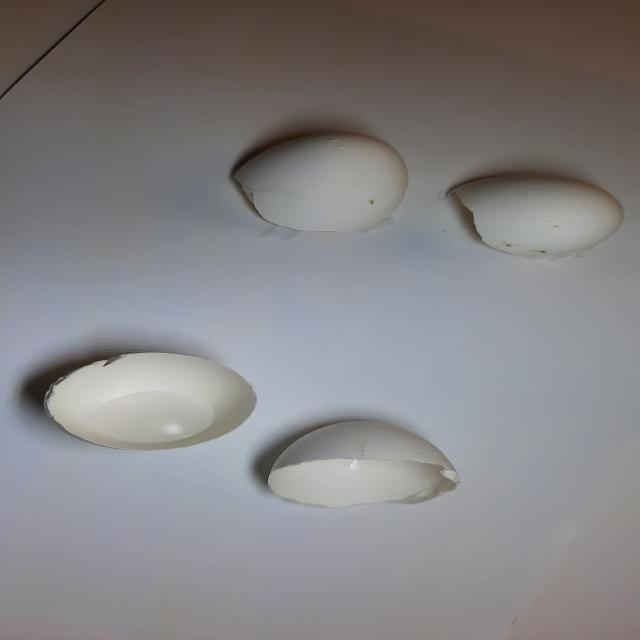egg shell: (29, 346, 265, 454), (216, 124, 422, 247), (253, 414, 480, 516), (434, 160, 638, 265)
